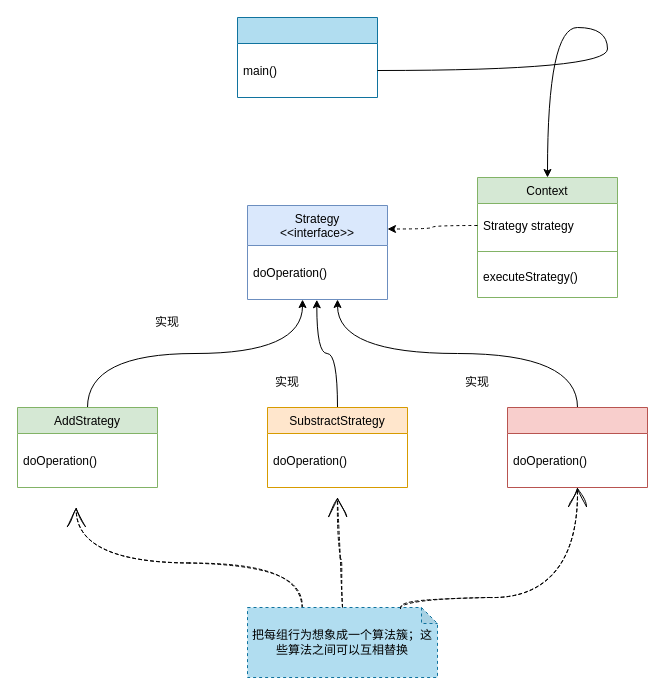
The diagram is 665 pixels wide and 695 high, and some of its shapes have lost their labels. Each missing label, with the box of its shape:
MultiplyStrategy: (506, 406, 648, 488)
StrategyPatternDemo: (236, 16, 378, 98)
